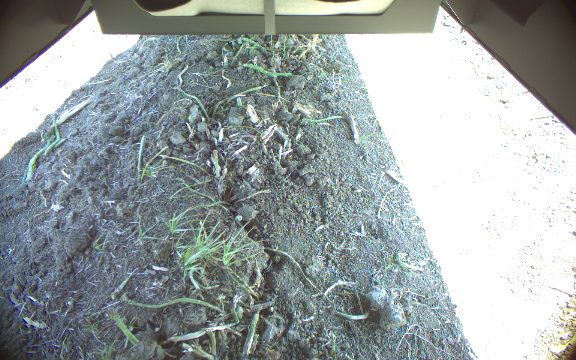aspa: (106, 307, 140, 348), (210, 148, 222, 174)
